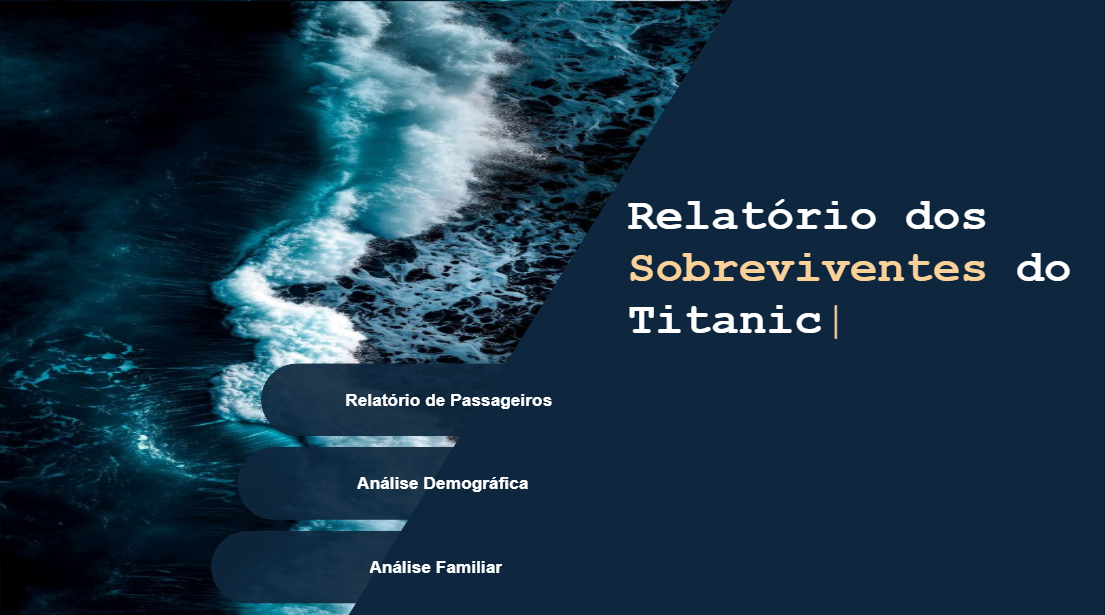

What the dashboard file says about the page in this screenshot:
{"tool":"powerbi","page":{"name":"Início","canvas":[1280,720],"ordinal":0},"visuals":[{"type":"image","box":[0,0,911.4,720],"z":0},{"type":"shape","box":[402,0,450,720],"z":1000},{"type":"shape","box":[850,0,430,720],"z":2000},{"type":"textbox","box":[724,220,556,246],"z":3000},{"type":"shape","box":[305.7,422.9,348.6,84.3],"z":4000},{"type":"shape","box":[278.6,520,348.6,84.3],"z":5000},{"type":"shape","box":[248.6,615.7,348.6,84.3],"z":6000}]}

Visuals, with their boxes in screenshot pixels (x1, y1, x2, y2), scaled from the page's 1280x720 canvas onto the 1105x615 screenshot:
image: 0/0/787/614
shape: 347/0/736/614
shape: 734/0/1104/614
textbox: 625/188/1104/398
shape: 264/361/565/433
shape: 241/444/541/516
shape: 215/526/516/598
